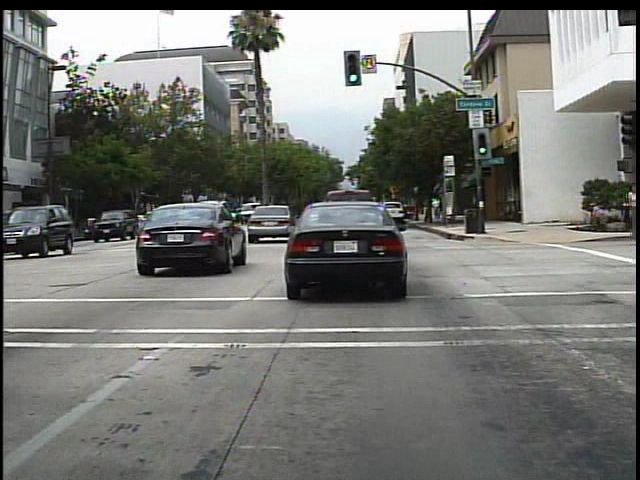person: (618, 181, 637, 249), (426, 191, 446, 224)
